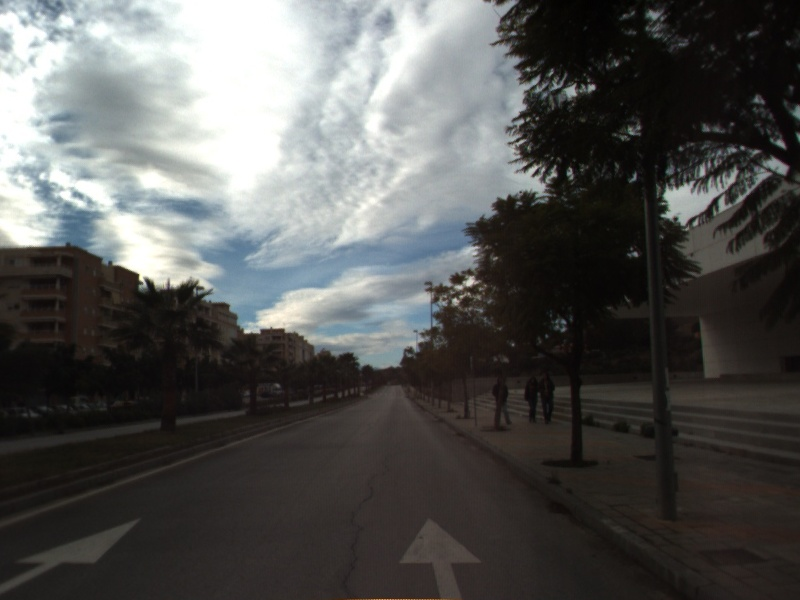STRAIGHT: (1, 515, 146, 593), (396, 515, 485, 600)
